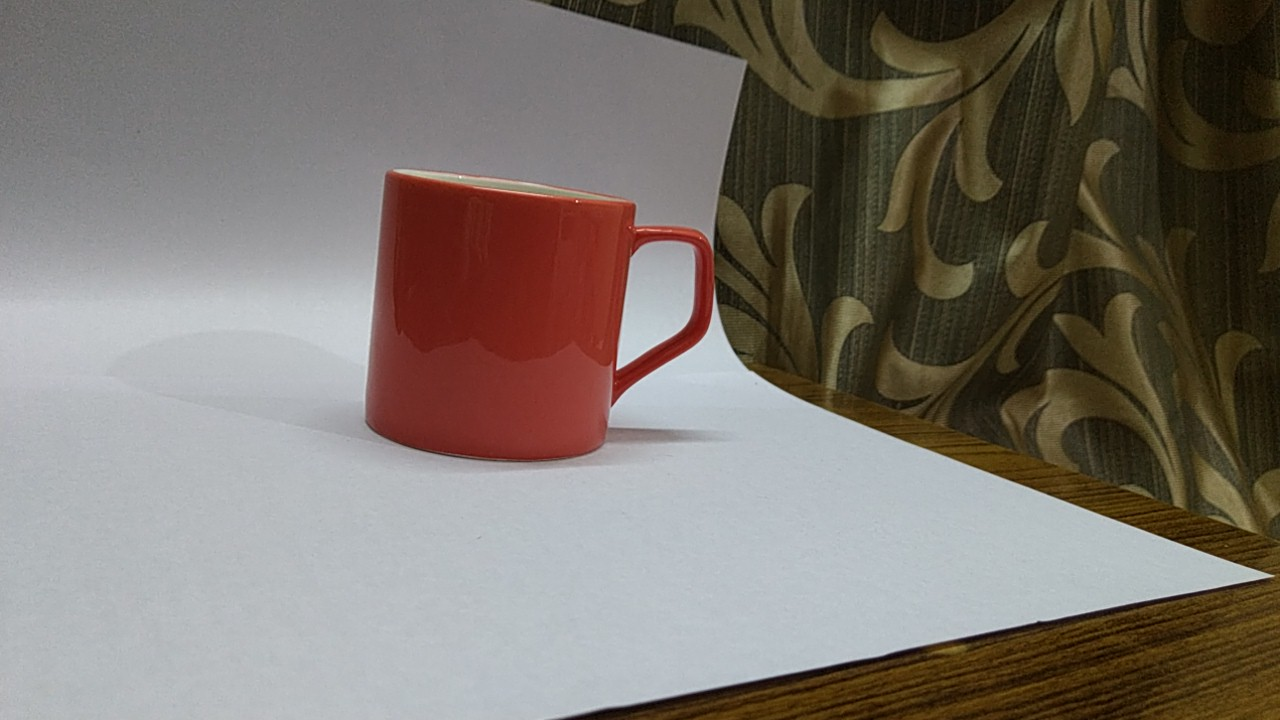cup: (354, 131, 731, 502)
